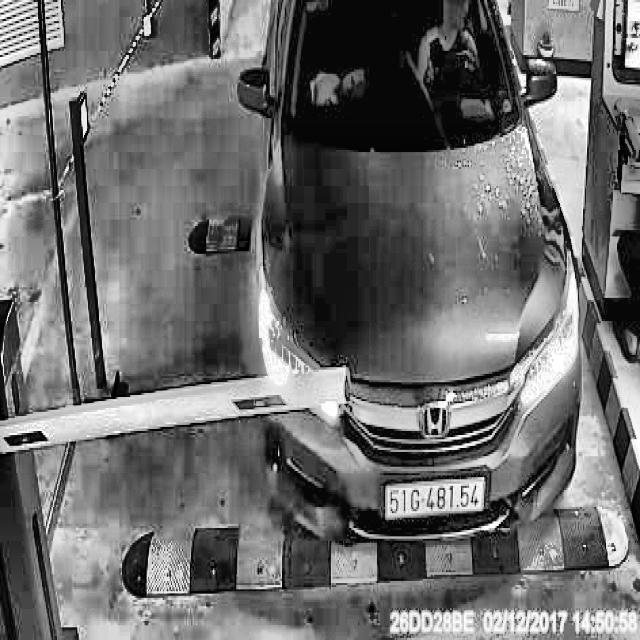plate: (382, 470, 489, 522)
